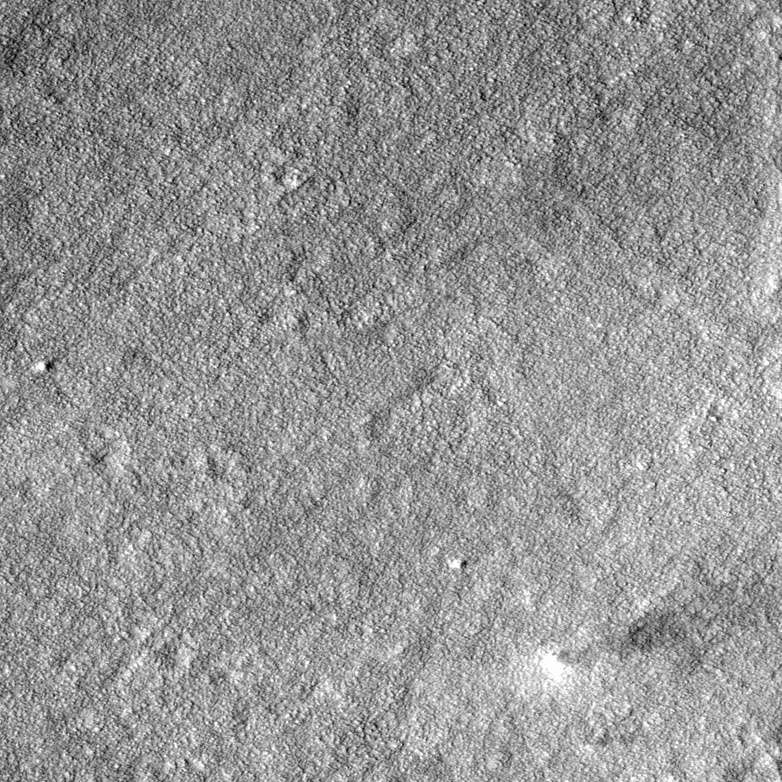dust_devil: (535, 608, 685, 686)
